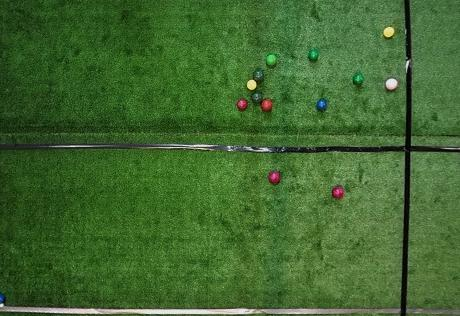blue: (317, 100, 327, 110), (0, 293, 5, 305)
green: (266, 54, 277, 66), (352, 73, 363, 85), (253, 70, 264, 81), (252, 92, 263, 102), (308, 50, 318, 60)
red: (385, 78, 398, 91), (268, 171, 281, 184), (332, 187, 344, 199), (261, 99, 272, 111), (237, 99, 247, 110)
vline: (401, 1, 460, 315)
white: (0, 302, 5, 308)
yellow: (383, 27, 395, 38), (247, 80, 257, 90)
